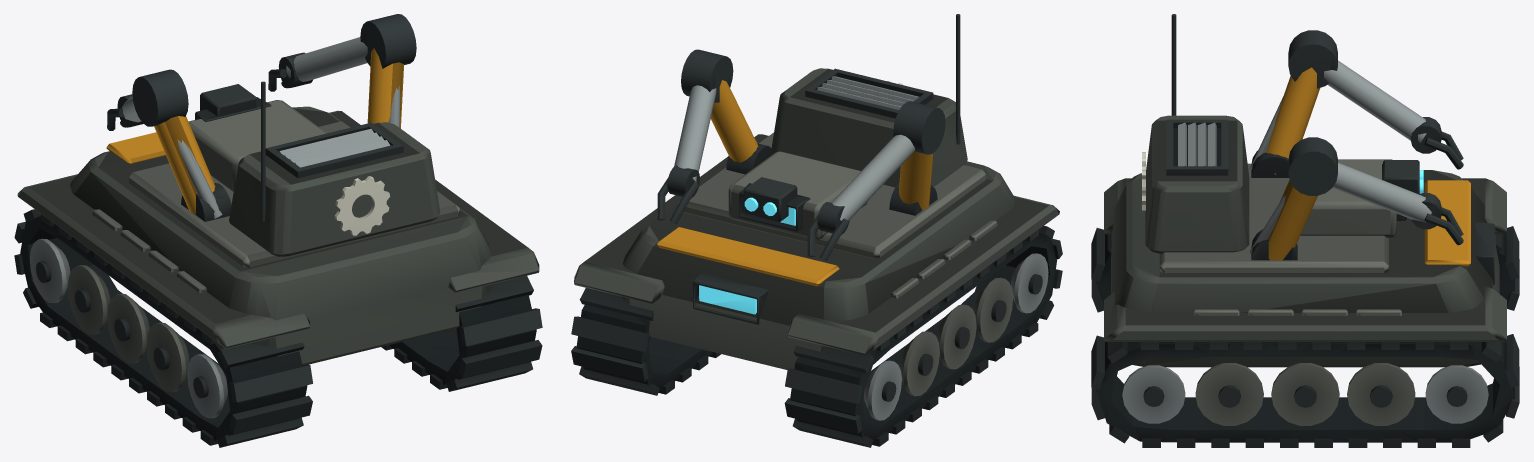
Rendered from RepairRobot.glb.
The picture shows the model from 3 angles, left to right: view 1: azimuth 30°, elevation 25°; view 2: azimuth 150°, elevation 25°; view 3: azimuth 270°, elevation 25°; orthographic projection. The views are drawn at different scales.
Visible parts, largest first — view 1: export_RepairRobot_TrackBelt, export_RepairRobot_Tread, export_RepairRobot_ShoulderCollar, export_RepairRobot_ShoulderCollar.001, export_RepairRobot_Tread.028, export_RepairRobot_Antenna; view 2: export_RepairRobot_TrackBelt, export_RepairRobot_ShoulderCollar.001, export_RepairRobot_ShoulderCollar, export_RepairRobot_Tread, export_RepairRobot_Tread.028, export_RepairRobot_Antenna; view 3: export_RepairRobot_TrackBelt, export_RepairRobot_ShoulderCollar, export_RepairRobot_ShoulderCollar.001, export_RepairRobot_Tread.028, export_RepairRobot_Tread, export_RepairRobot_Antenna.
Boxes of the visible parts, x1,y1,x2,y2 form: export_RepairRobot_TrackBelt: (17,84,539,440); export_RepairRobot_Tread: (14,209,312,447); export_RepairRobot_ShoulderCollar: (107,69,231,221); export_RepairRobot_ShoulderCollar.001: (268,14,416,128); export_RepairRobot_Tread.028: (381,275,542,391); export_RepairRobot_Antenna: (261,81,265,221); export_RepairRobot_TrackBelt: (574,68,1059,439); export_RepairRobot_ShoulderCollar.001: (657,49,773,224); export_RepairRobot_ShoulderCollar: (807,101,945,260); export_RepairRobot_Tread: (784,226,1062,447); export_RepairRobot_Tread.028: (571,288,720,395); export_RepairRobot_Antenna: (956,14,960,144); export_RepairRobot_TrackBelt: (1096,115,1514,442); export_RepairRobot_ShoulderCollar: (1250,30,1463,177); export_RepairRobot_ShoulderCollar.001: (1249,137,1463,260); export_RepairRobot_Tread.028: (1091,334,1519,447); export_RepairRobot_Tread: (1091,226,1519,312); export_RepairRobot_Antenna: (1171,14,1176,115).
Bounding box in the file's own units: 2.31 × 2.3 × 2.77.
